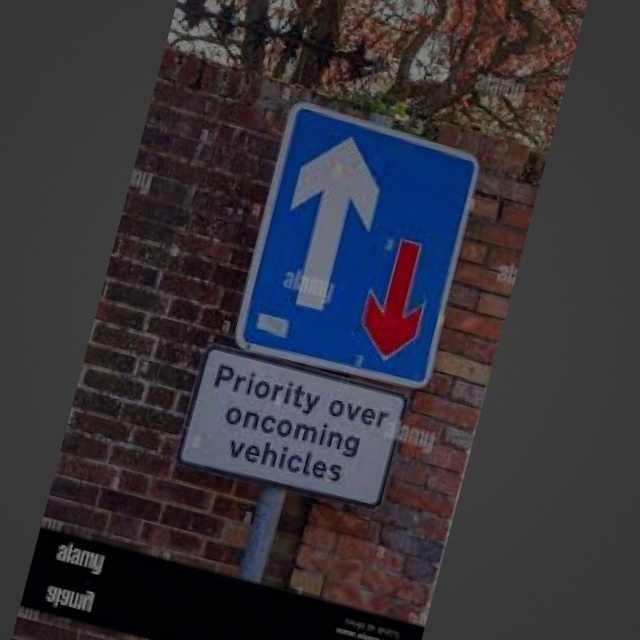Priority_for_Oncoming_Traffic: (241, 110, 483, 386)
